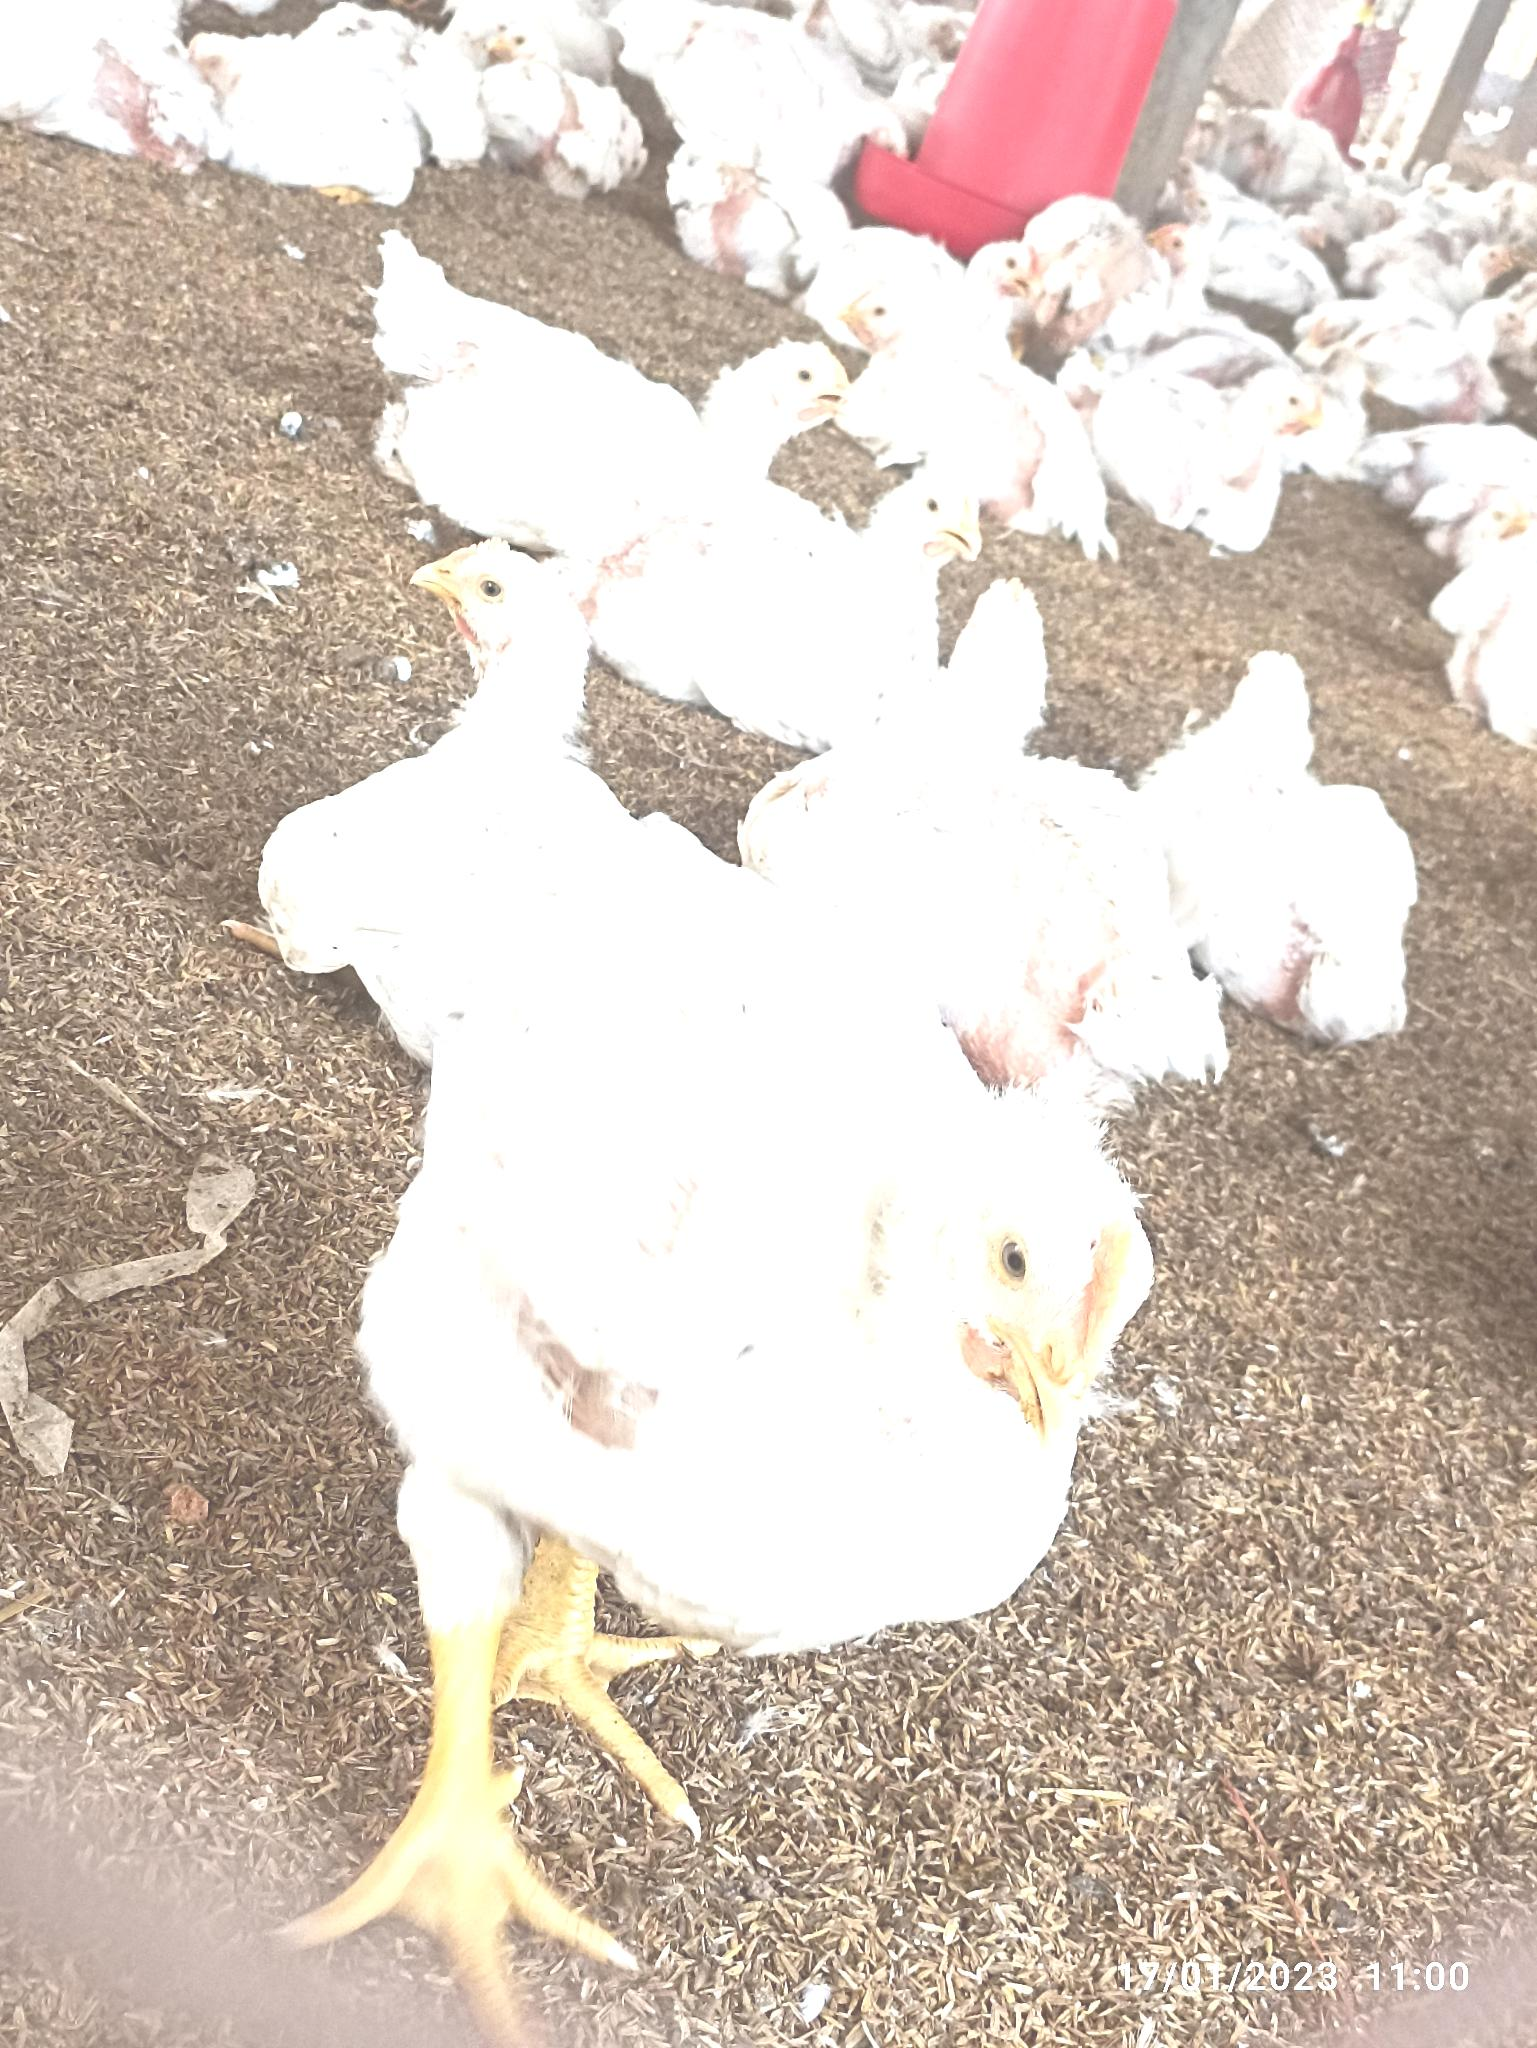Pollos: (375, 838, 1158, 1651), (802, 584, 1174, 1089), (278, 523, 641, 867), (1167, 650, 1434, 1023), (412, 286, 856, 507), (649, 473, 986, 697), (840, 282, 1093, 457), (1096, 363, 1321, 557), (471, 21, 646, 199), (933, 232, 1040, 342)
